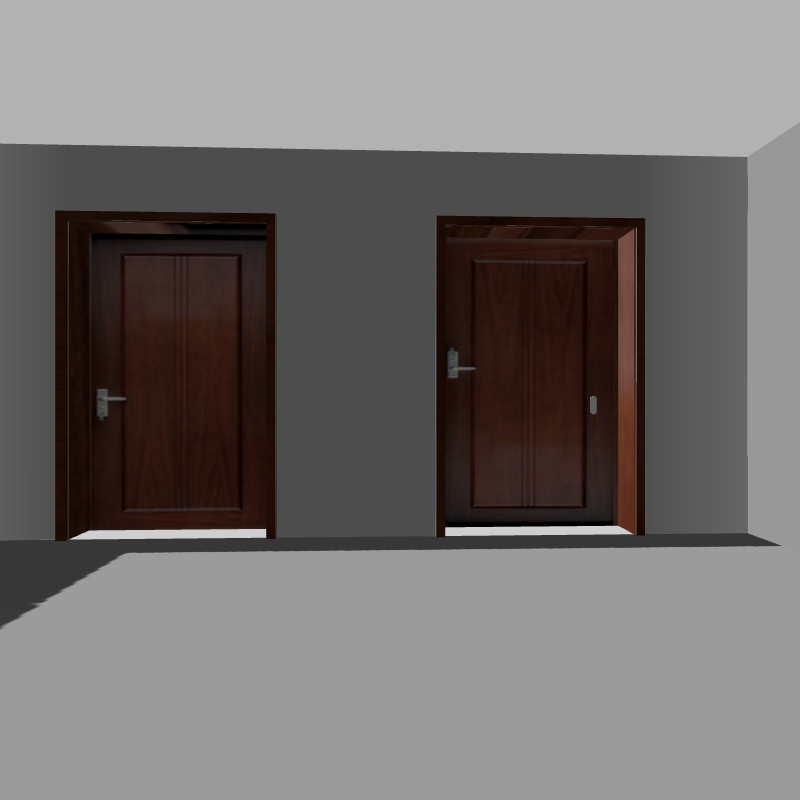handle: (435, 342, 477, 386), (89, 379, 128, 418)
